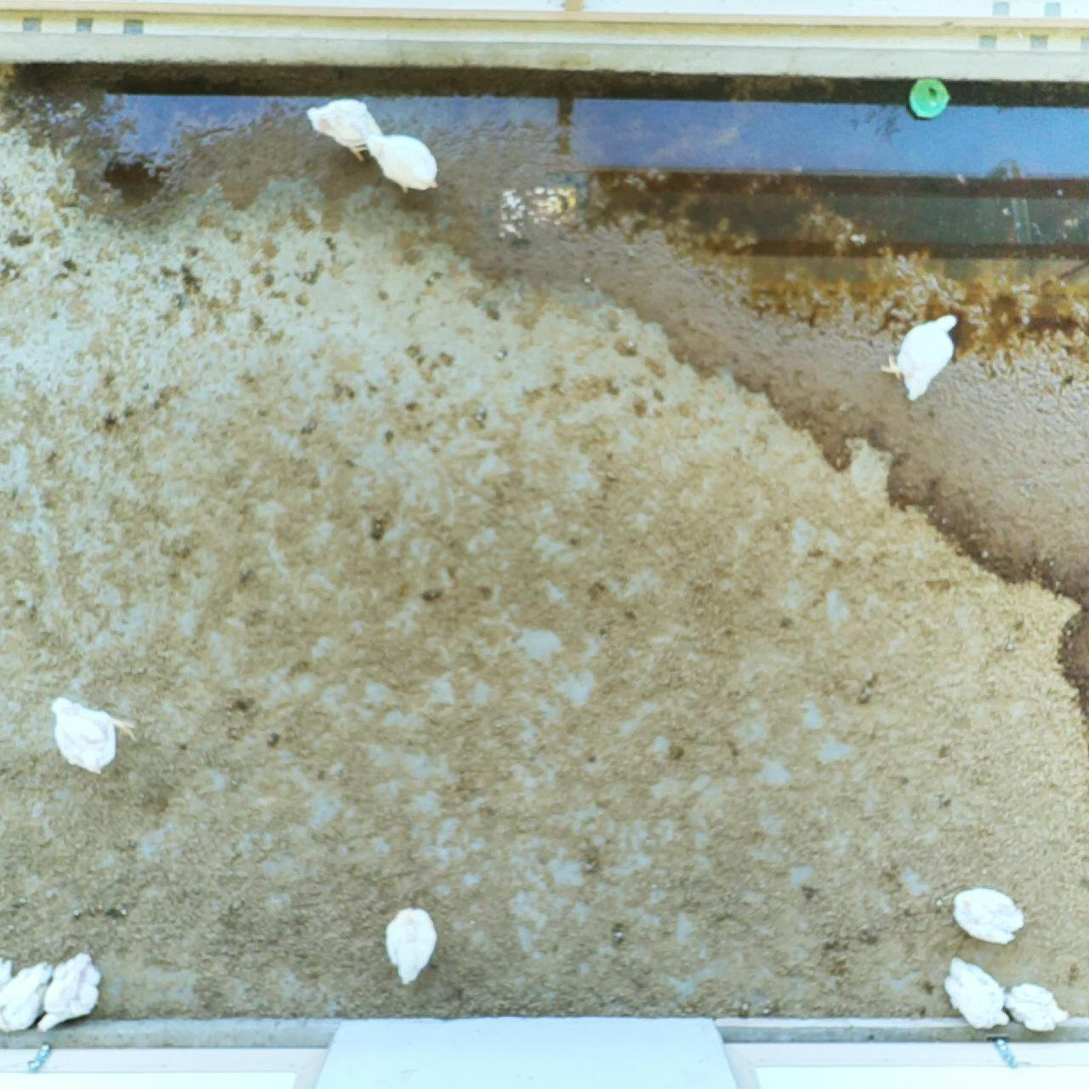chicken: (48, 696, 138, 773), (878, 313, 955, 402), (305, 98, 385, 162), (944, 959, 1012, 1031), (40, 953, 102, 1029), (363, 134, 440, 193), (1, 955, 54, 1035), (383, 908, 438, 984), (951, 887, 1025, 943), (1006, 978, 1068, 1034)
